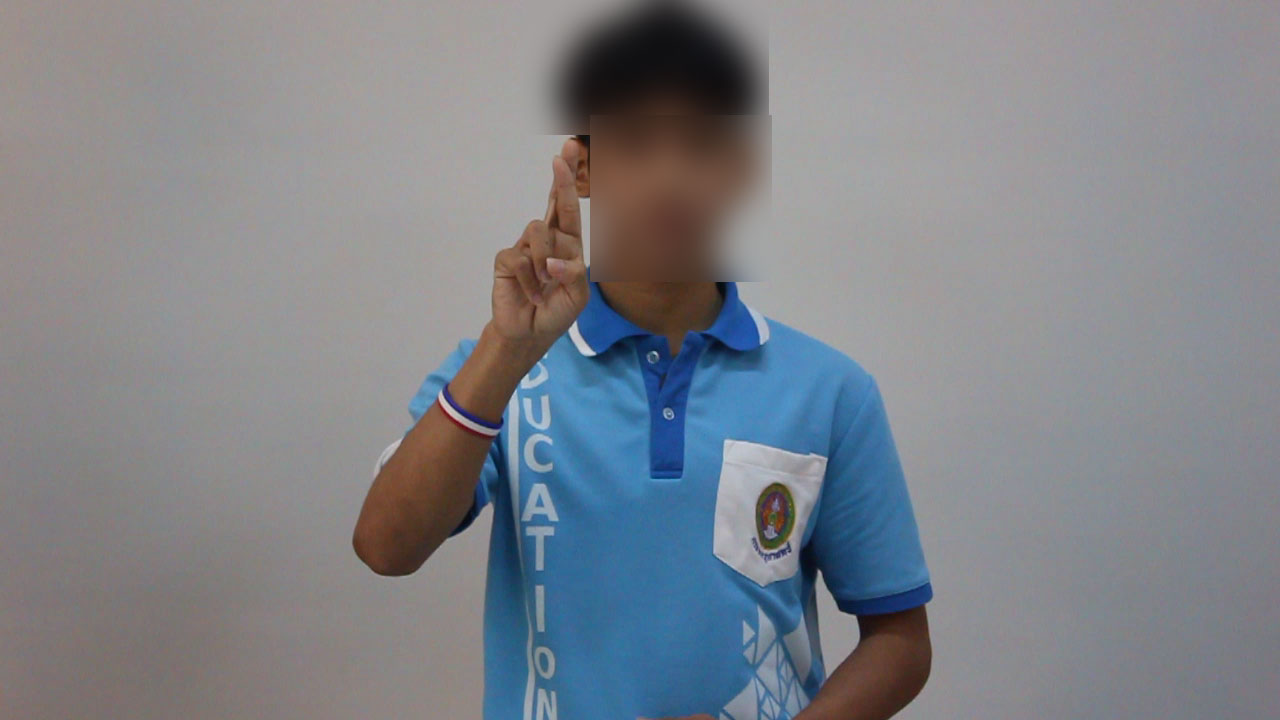rao: (468, 130, 604, 337)
